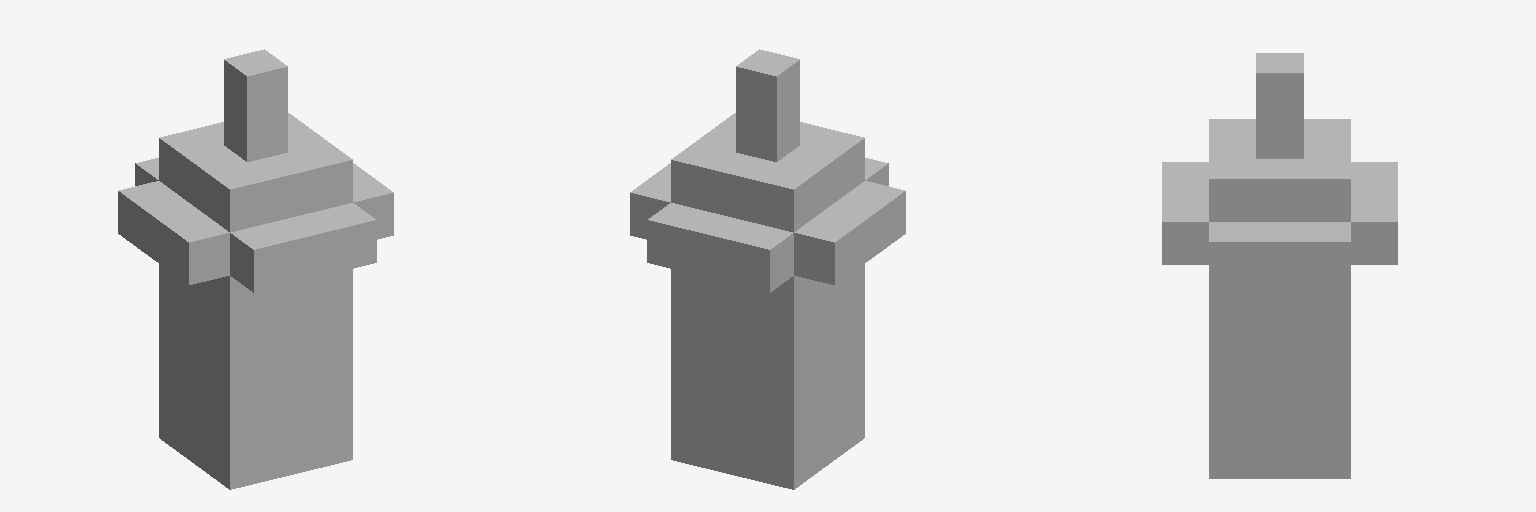
File: obj_milk.obj
3 renders of one model, left to right at view 1: azimuth 30°, elevation 25°; view 2: azimuth 150°, elevation 25°; view 3: azimuth 270°, elevation 25°, orthographic.
Parts seen in each view (by area): view 1: obj_milk; view 2: obj_milk; view 3: obj_milk.
Part boxes in pixels (x1,y1,x2,y2): obj_milk: (118, 49, 393, 489); obj_milk: (630, 49, 905, 489); obj_milk: (1162, 53, 1397, 478).
Bounding box in the file's own units: 5 × 9 × 5.